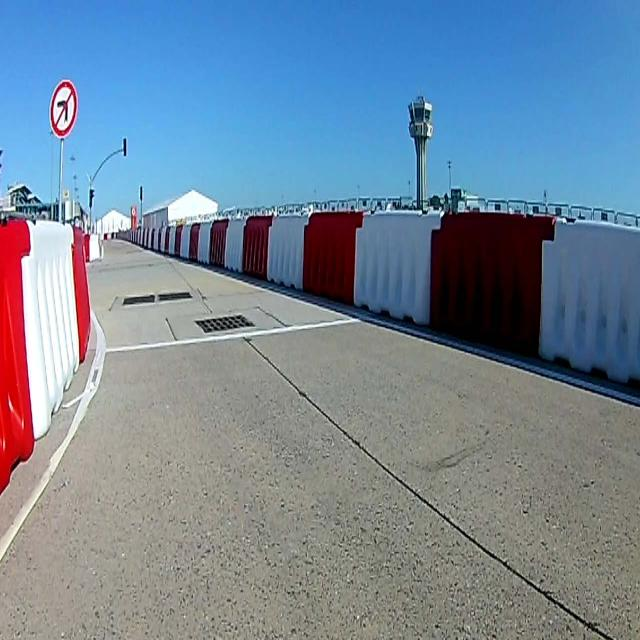soladonulmez: (51, 81, 77, 138)
